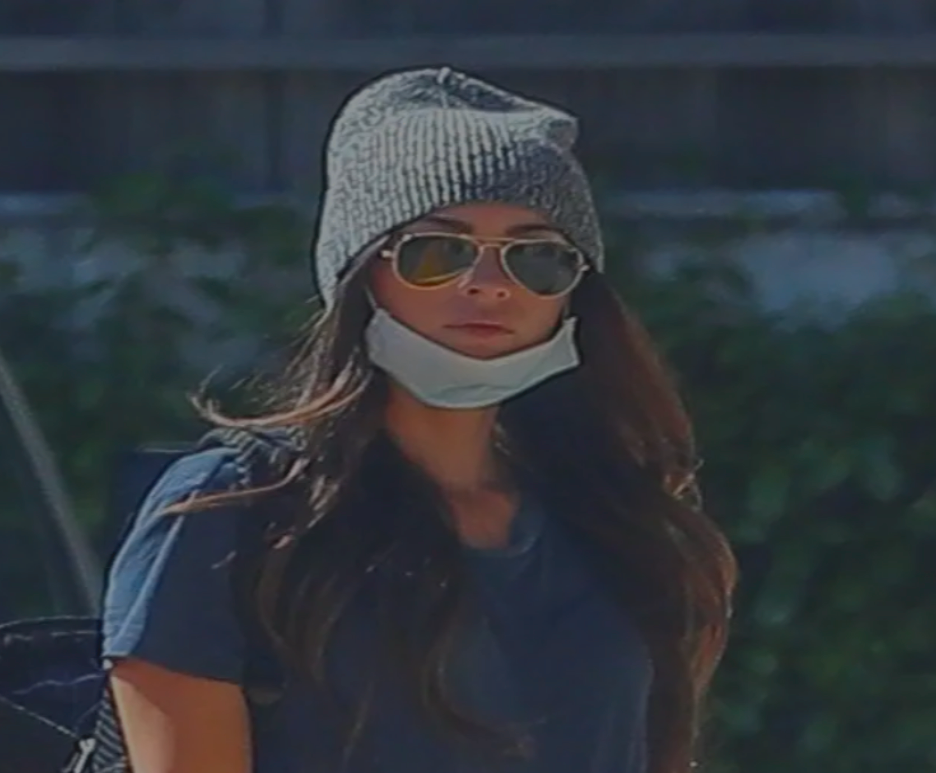mask_weared_incorrect: (315, 70, 602, 416)
